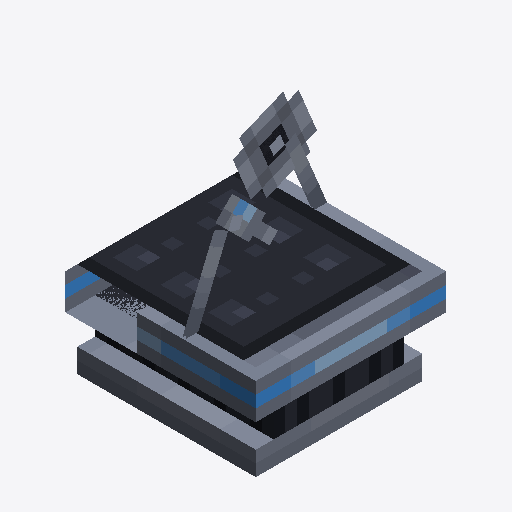
A Minecraft block model of 10 cuboids, rendered isometrically (azimuth 45°, elevation 35.3°) with the resource pack's own textures.
Visible parts, largest first — element 10, element 9, element 8, element 3, element 5, element 1, element 6.
Boxes of the visible parts, box(x1,y1,x2,y2) form: element 10: box(65, 172, 445, 421); element 9: box(77, 337, 421, 476); element 8: box(95, 285, 403, 438); element 3: box(233, 90, 316, 198); element 5: box(186, 215, 242, 338); element 1: box(269, 133, 326, 209); element 6: box(216, 194, 265, 241).
Bounding box in the file's own units: 16.04 × 18.19 × 16.